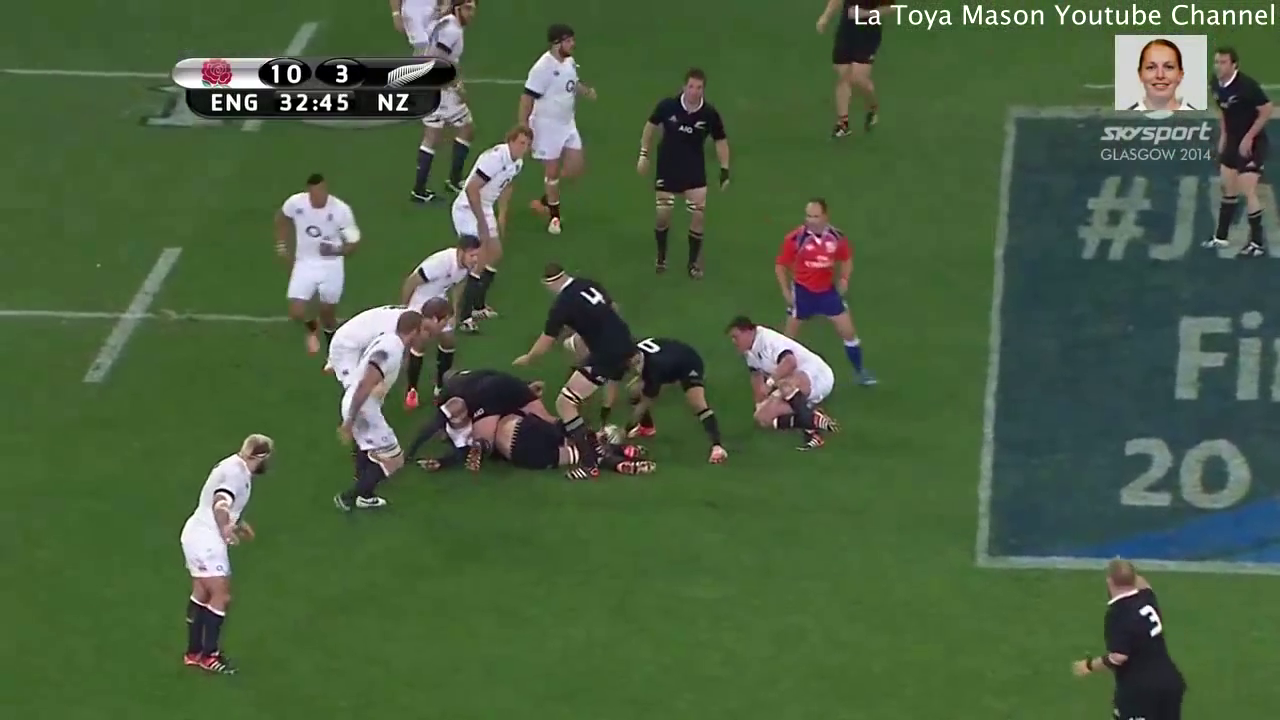player: (157, 429, 290, 684), (506, 256, 647, 472), (507, 22, 616, 241), (764, 192, 878, 390), (319, 310, 426, 517), (1070, 555, 1197, 720), (638, 66, 733, 281), (716, 310, 856, 452), (1193, 41, 1280, 256), (454, 123, 536, 341), (397, 4, 483, 207), (618, 321, 731, 470), (265, 167, 352, 356), (813, 1, 891, 143), (325, 300, 446, 362), (403, 232, 483, 301)
